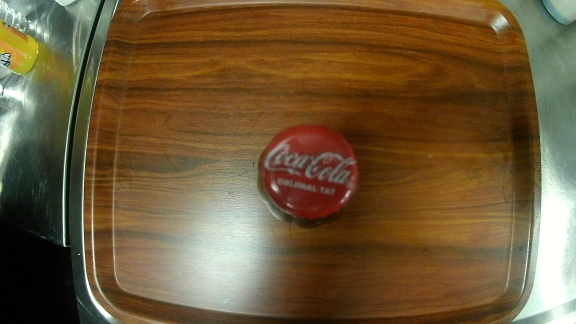camkola: (253, 121, 362, 234)
